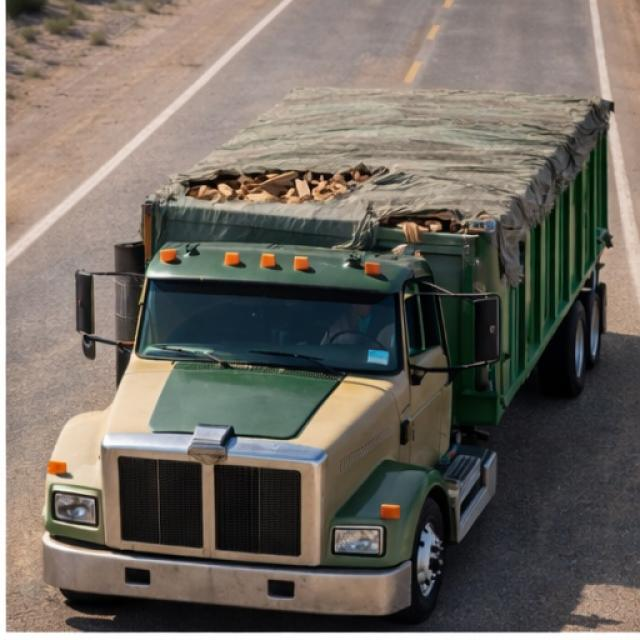Box: (135, 84, 620, 248)
Truck: (30, 59, 632, 617)
